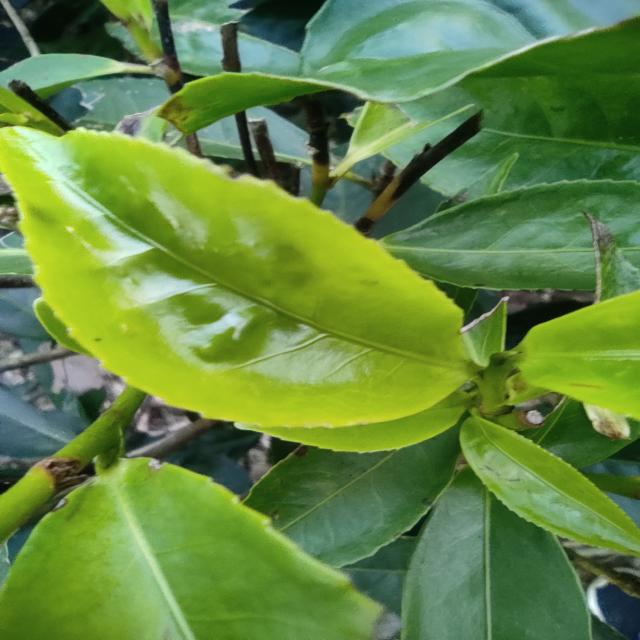Category C(4-7 days): (0, 110, 484, 446)
